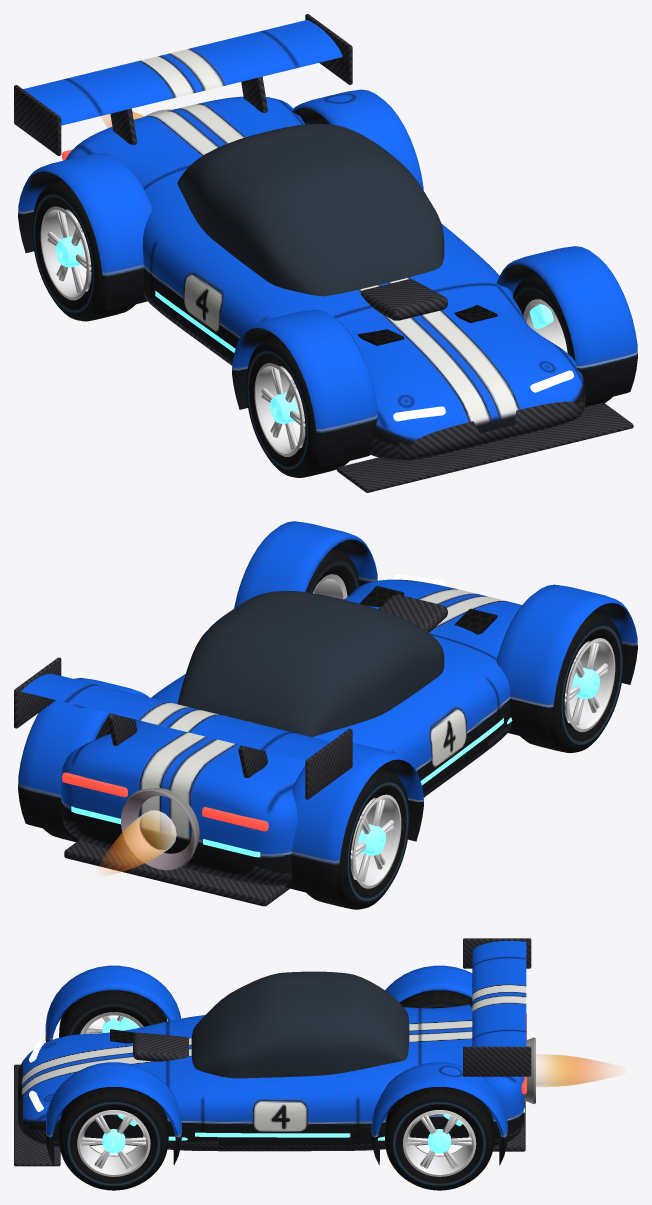
File: rocket-car-blue-hd.glb
3 renders of one model, top to bottom at view 1: azimuth 30°, elevation 25°; view 2: azimuth 150°, elevation 25°; view 3: azimuth 270°, elevation 25°, orthographic. The views are drawn at different scales.
Visible parts, largest first — view 1: chassis, wheel_rear_right, wheel_front_right, wheel_front_left; view 2: chassis, wheel_rear_right, wheel_front_right, booster_flame, booster_nozzle, wheel_front_left, light_strips; view 3: chassis, wheel_front_left, wheel_rear_left, wheel_front_right, booster_flame, wheel_rear_right, light_strips, booster_nozzle.
Boxes of the visible parts, bbox=[...] form: chassis: bbox=[14, 14, 637, 492]; wheel_rear_right: bbox=[32, 180, 135, 321]; wheel_front_right: bbox=[246, 336, 349, 477]; wheel_front_left: bbox=[513, 273, 612, 406]; chassis: bbox=[14, 521, 637, 906]; wheel_rear_right: bbox=[306, 768, 409, 909]; wheel_front_right: bbox=[520, 611, 623, 752]; booster_flame: bbox=[100, 810, 176, 874]; booster_nozzle: bbox=[121, 788, 199, 870]; wheel_front_left: bbox=[305, 548, 359, 599]; light_strips: bbox=[71, 718, 503, 857]; chassis: bbox=[14, 938, 531, 1166]; wheel_front_left: bbox=[59, 1088, 168, 1190]; wheel_rear_left: bbox=[385, 1088, 494, 1190]; wheel_front_right: bbox=[59, 991, 167, 1037]; booster_flame: bbox=[536, 1054, 614, 1087]; wheel_rear_right: bbox=[401, 991, 471, 1008]; light_strips: bbox=[195, 1108, 524, 1137]; booster_nozzle: bbox=[524, 1037, 535, 1103].
Size of the model in its own units: 2.07 by 1.18 by 4.56.
16 materials, 6 textured.
